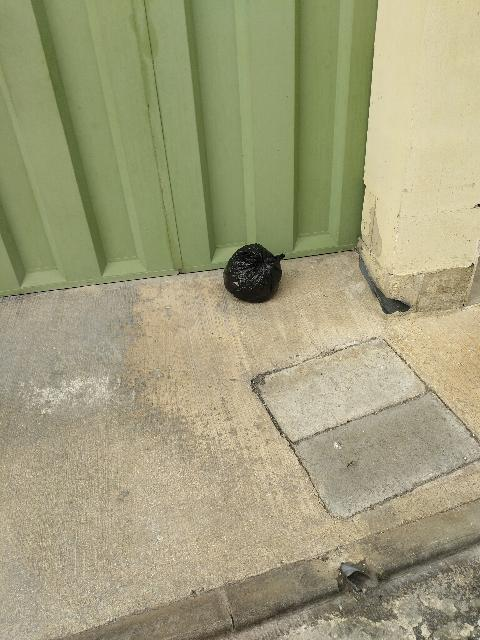Mixed -Black-: (223, 243, 285, 303)
